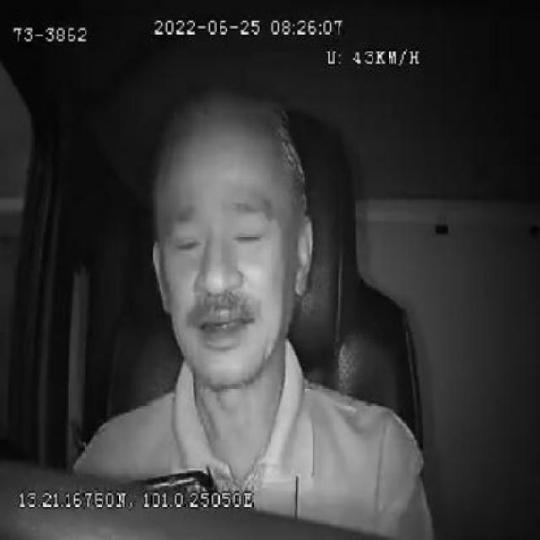phone: (120, 469, 219, 491)
